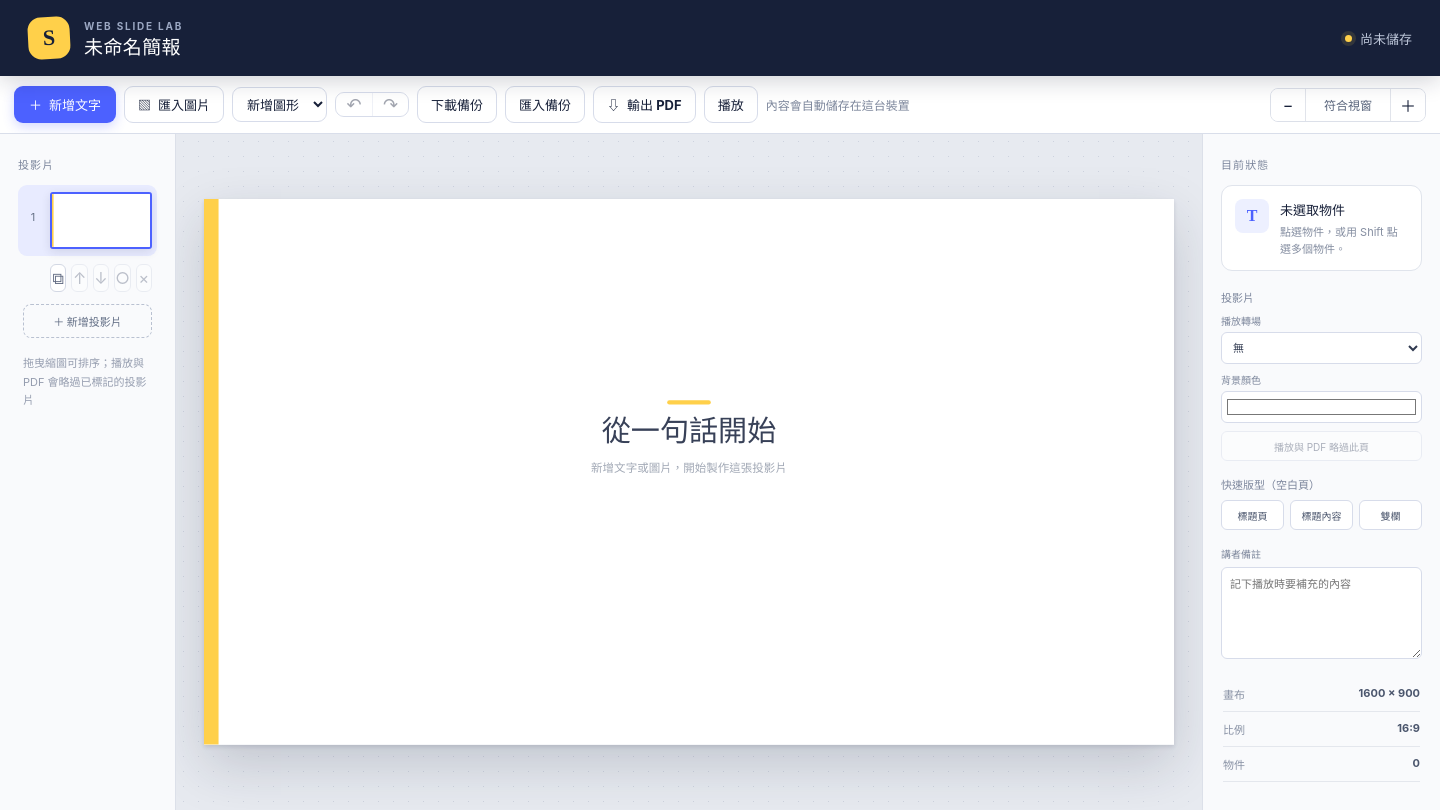
Test: App › duplicates and deletes the active slide while keeping one slide
The image size is (1440, 810).
Click the button "＋ 新增文字".
click(65, 104)  # box [14,86,116,123]
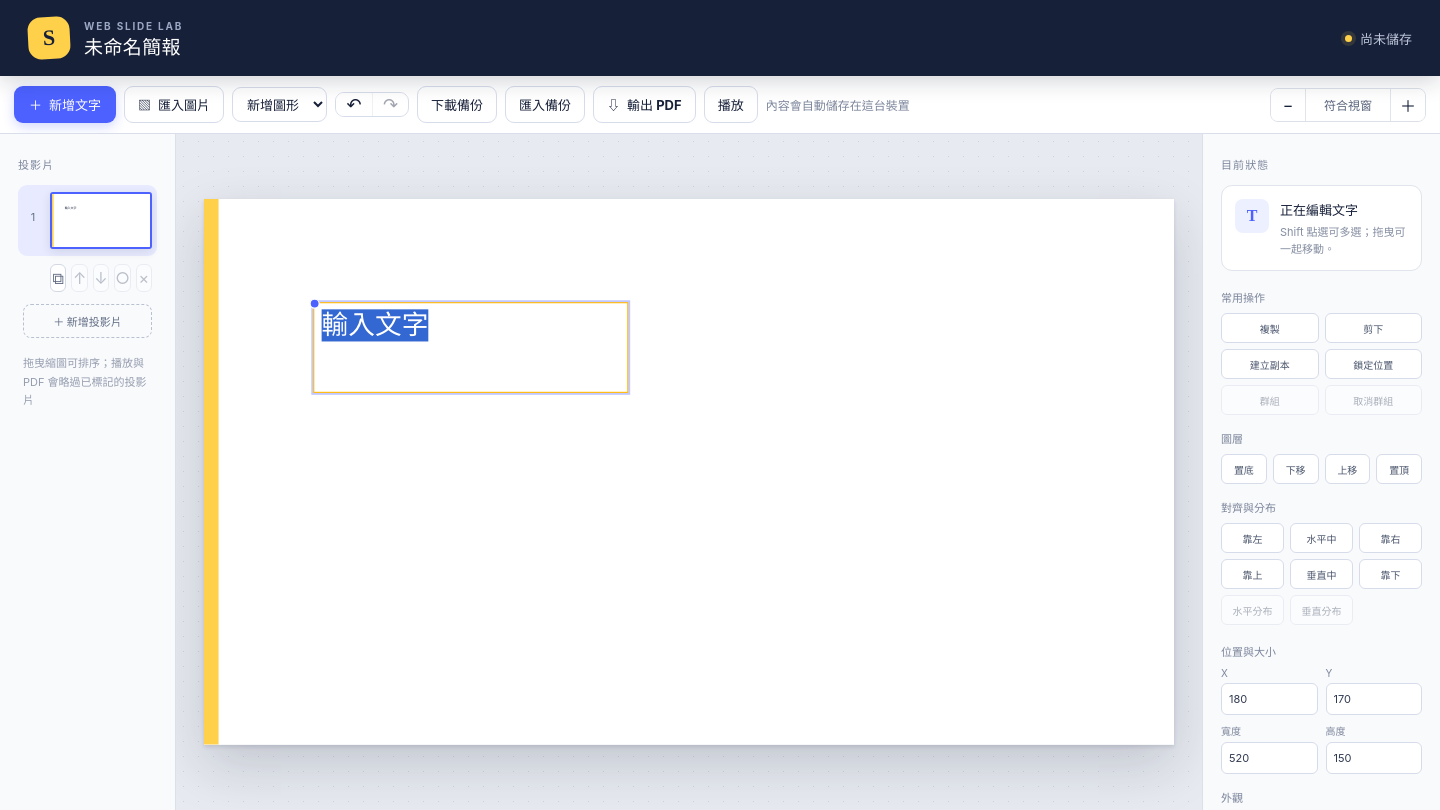
Replace the text in the text box named "文字內容" with "要一起複製的內容" at (471, 348), box [314,304,627,392]
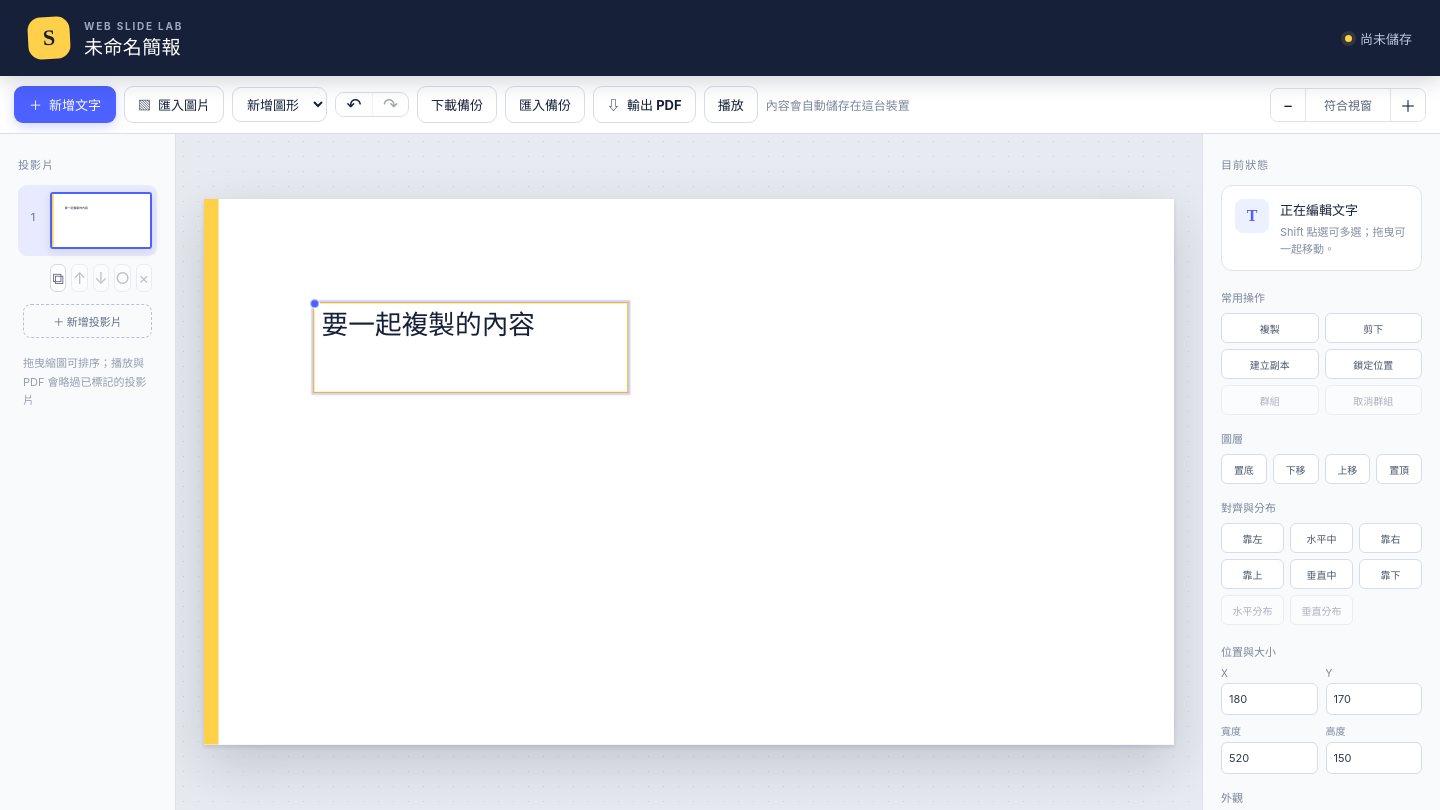
Click the button named "複製目前投影片".
click(58, 278)  # box [50,264,66,292]
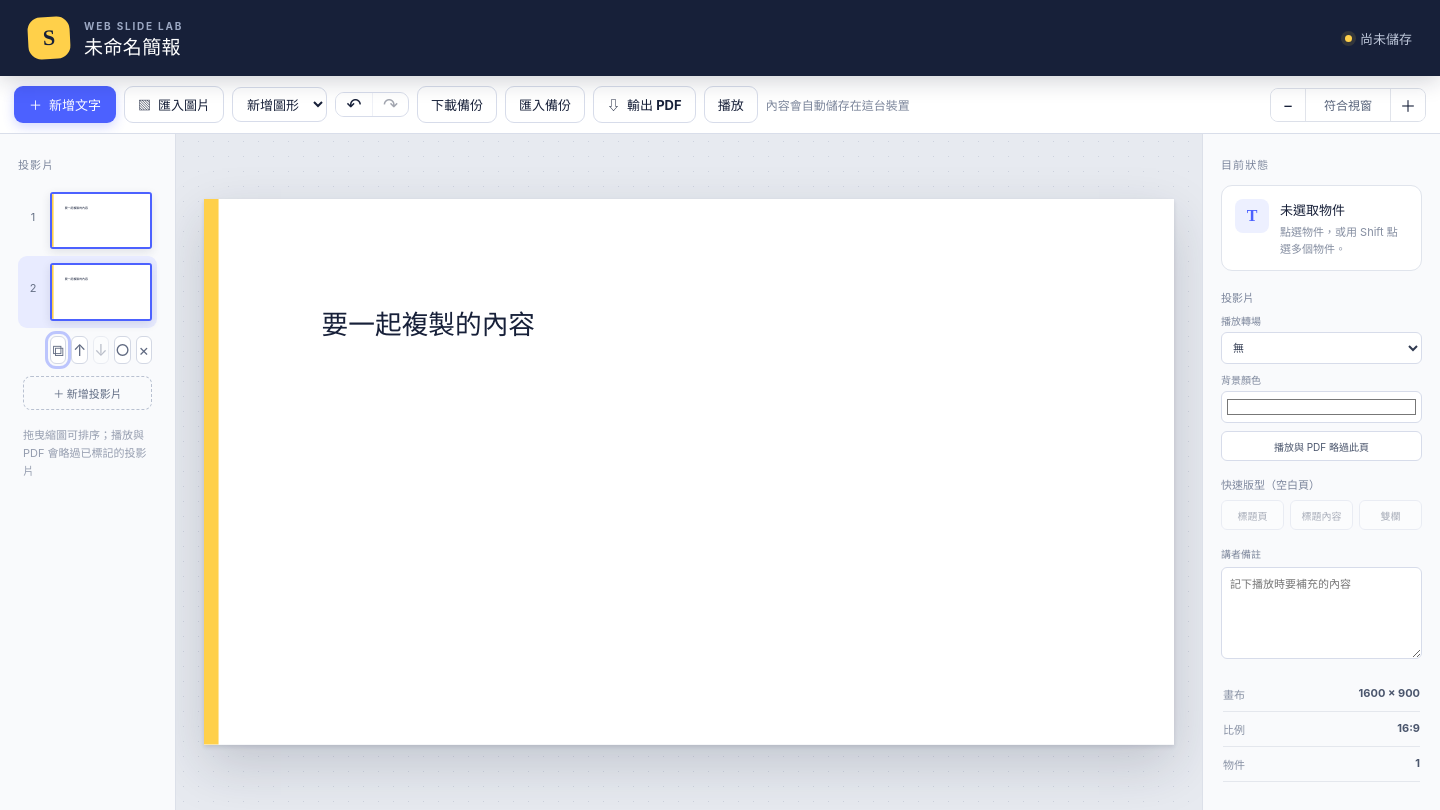
expect the text box named "文字內容" holds "要一起複製的內容": met, box [314,304,627,392]
Click the button named "刪除目前投影片".
click(144, 350)  # box [136,336,152,364]
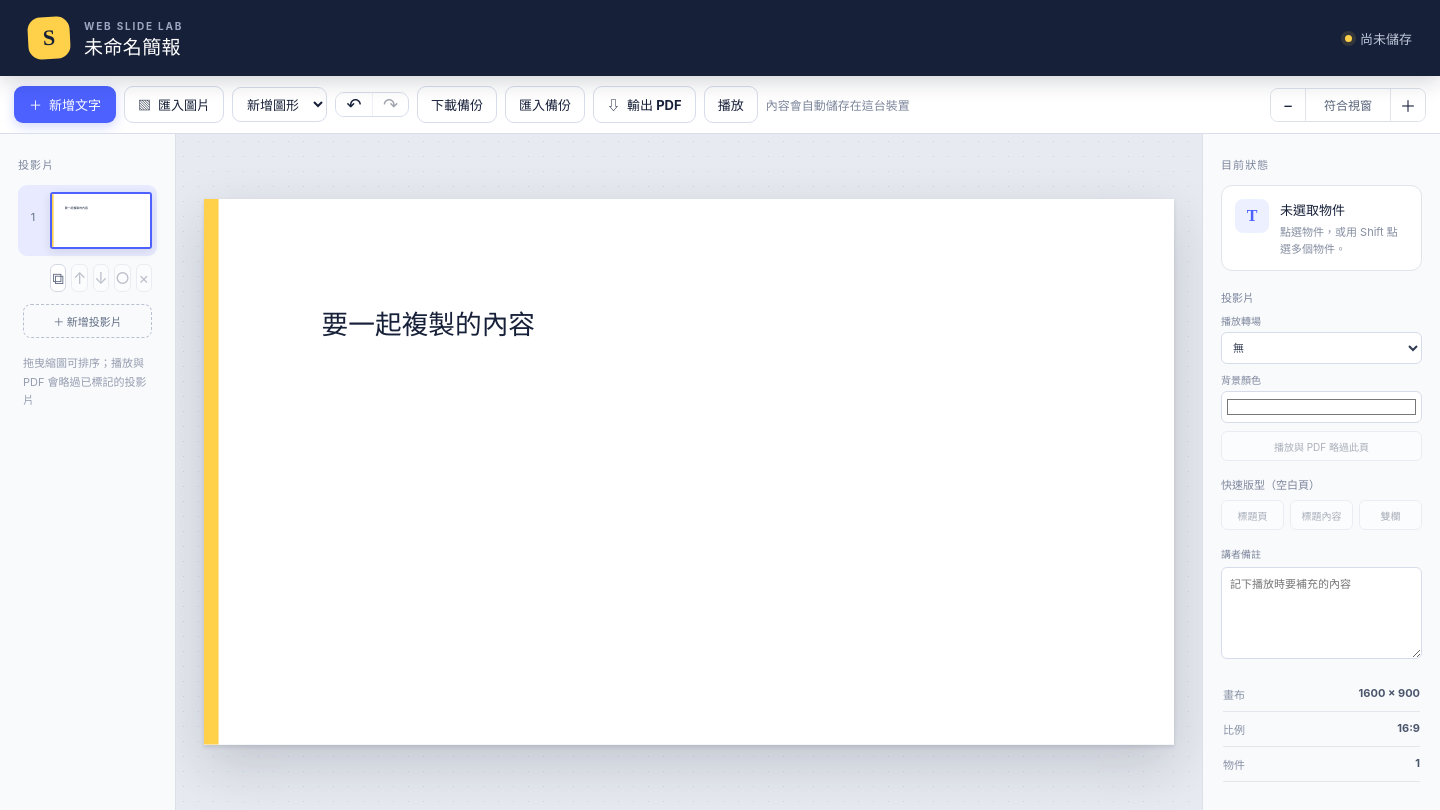
expect the text box named "文字內容" is shown: met, box [314,304,627,392]
expect the button named "刪除目前投影片" is disabled: met, box [136,264,152,292]
